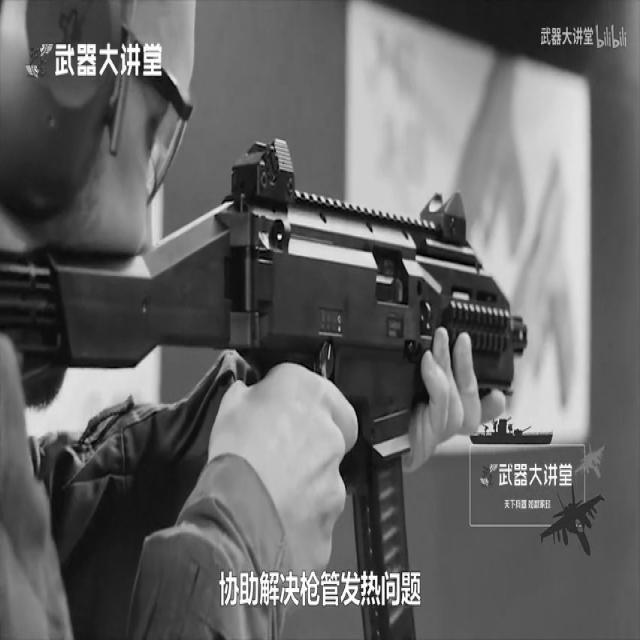Sub-machine-gun: (43, 127, 540, 572)
